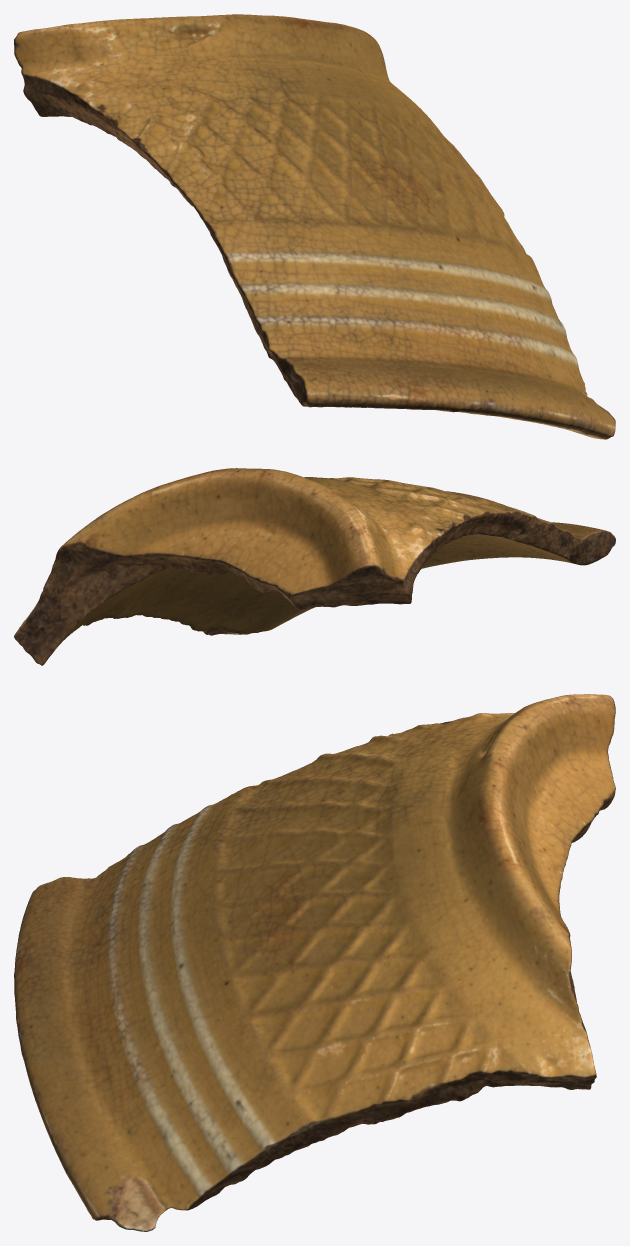
3 renders of one model, top to bottom at view 1: azimuth 30°, elevation 25°; view 2: azimuth 150°, elevation 25°; view 3: azimuth 270°, elevation 25°, orthographic. The views are drawn at different scales.
Parts seen in each view (by area): view 1: Node; view 2: Node; view 3: Node.
Part boxes in pixels (<box>): Node: <box>14,14,615,439</box>; Node: <box>14,468,615,665</box>; Node: <box>14,694,615,1231</box>.
Bounding box in the file's own units: 83.01 × 68.32 × 102.
Materials: 1 (1 with a texture image).
